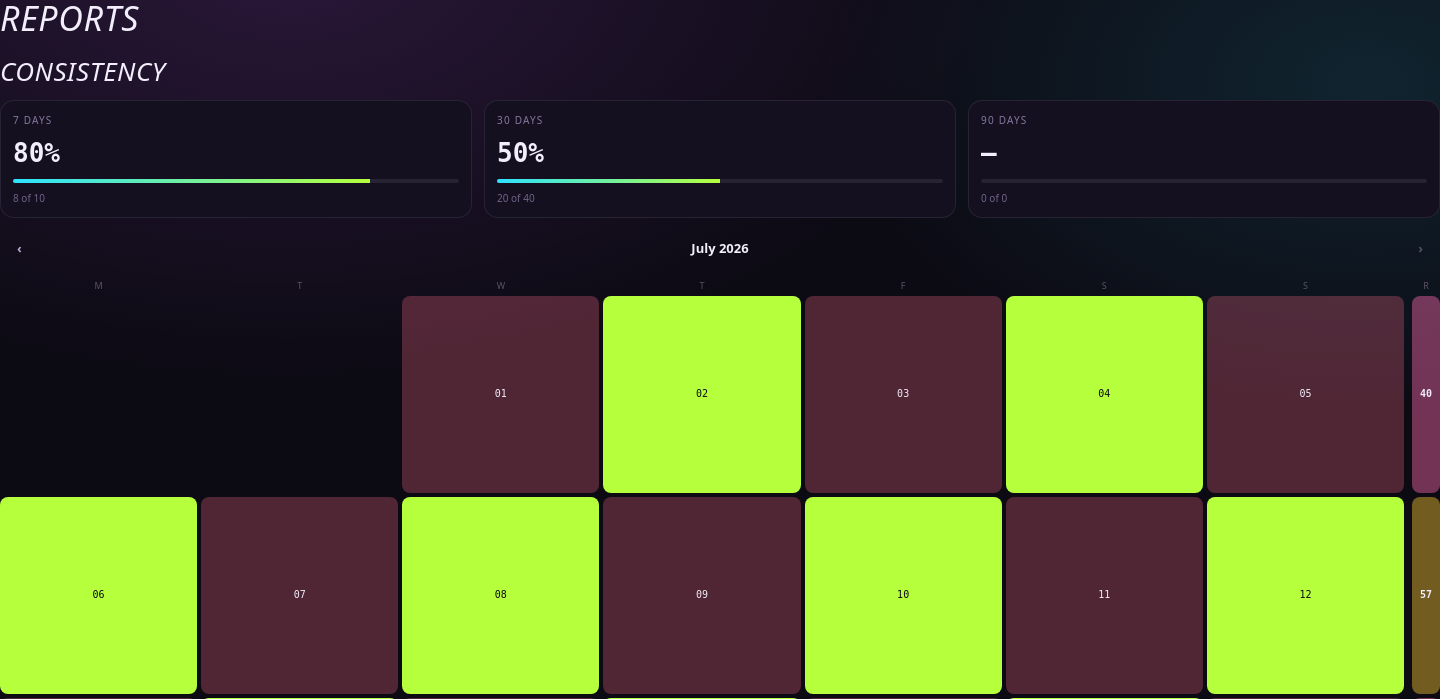
Test case: a week's report, from its R cell › opens the whole week's report, Monday first, even for a row that starts mid-week
Expected: the heading "Consistency" is shown, [0, 53, 166, 89]
Click the button named "open the week's report" at (1426, 395), box [1412, 296, 1439, 493]
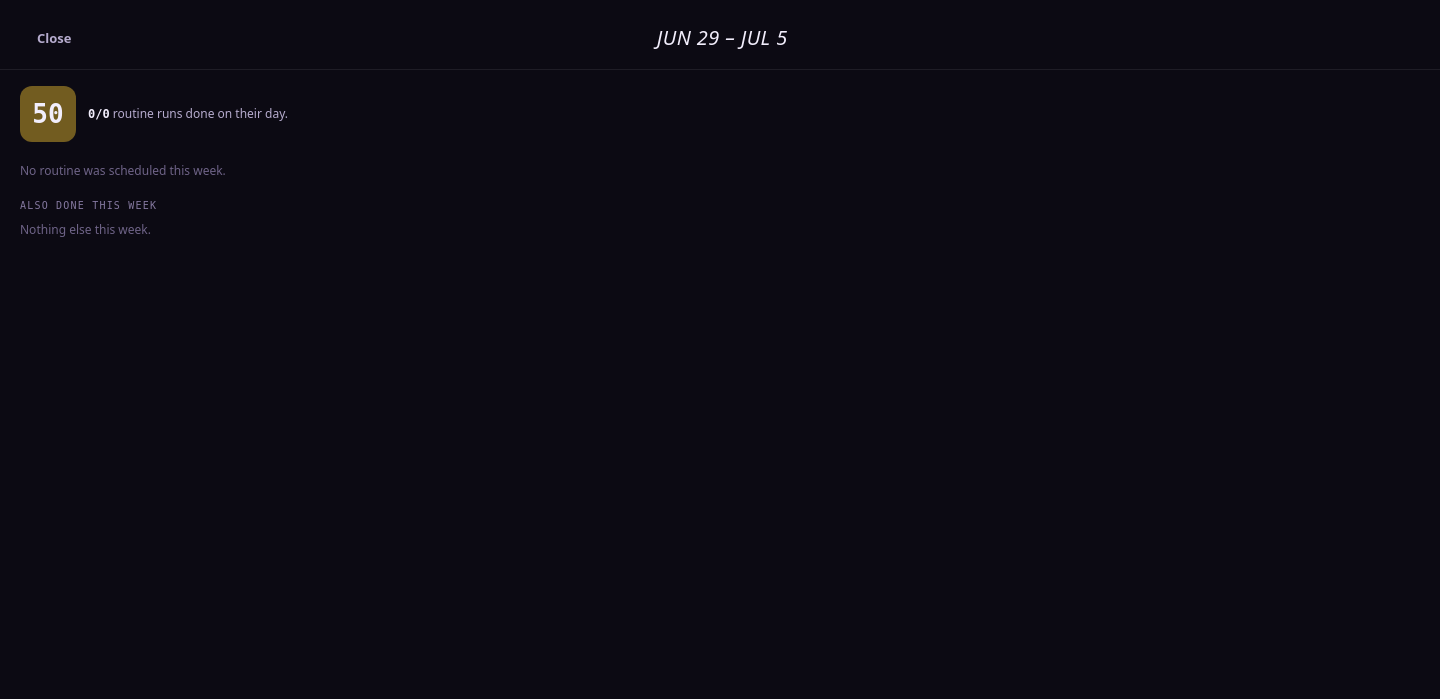
Expected: the text "Nothing else this week." is shown, [20, 222, 151, 238]
